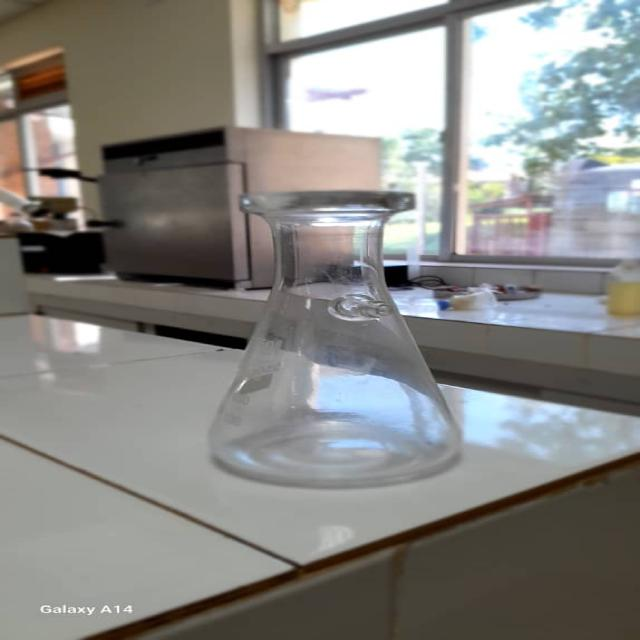Filtration Flask: (217, 178, 463, 487)
